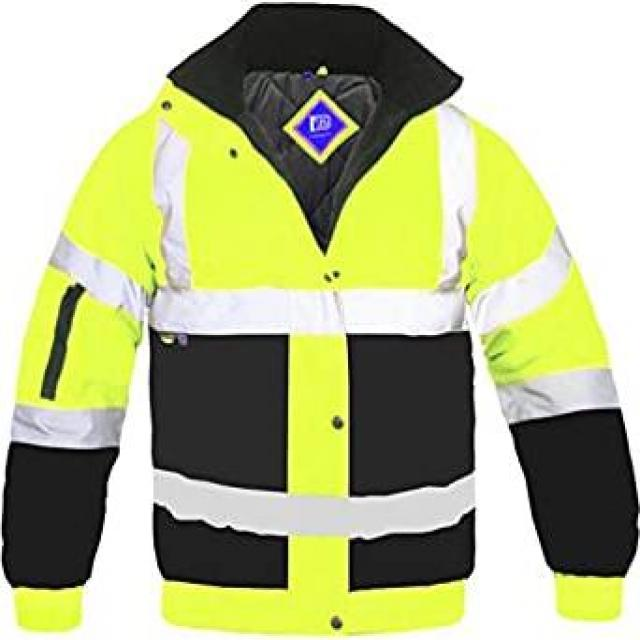Reflective-Jacket: (22, 24, 630, 632)
